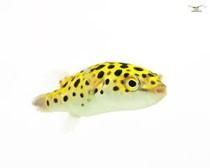Green Spotted Puffer: (27, 61, 169, 124)
